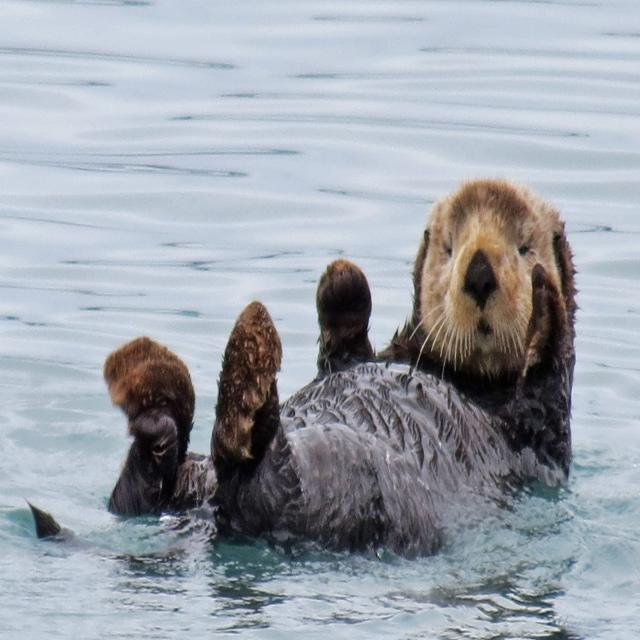Otter: (100, 170, 589, 564)
